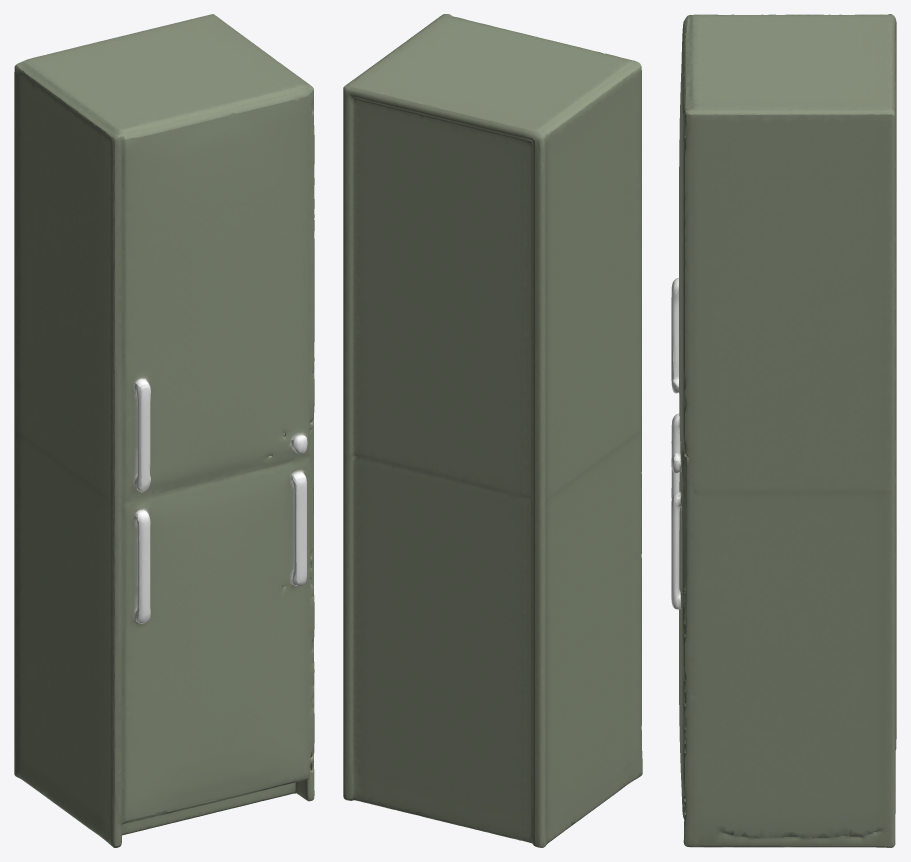
Rendered from item_bd597ae1.glb.
The picture shows the model from 3 angles, left to right: view 1: azimuth 30°, elevation 25°; view 2: azimuth 150°, elevation 25°; view 3: azimuth 270°, elevation 25°; orthographic projection. The views are drawn at different scales.
Parts seen in each view (by area): view 1: world; view 2: world; view 3: world.
Part boxes in pixels (left/top/right/bottom): world: left=14, top=14, right=314, bottom=847; world: left=343, top=14, right=642, bottom=847; world: left=671, top=14, right=896, bottom=847.
Bounding box in the file's own units: 1.8 × 6.1 × 1.69.
1 material, 1 textured.
